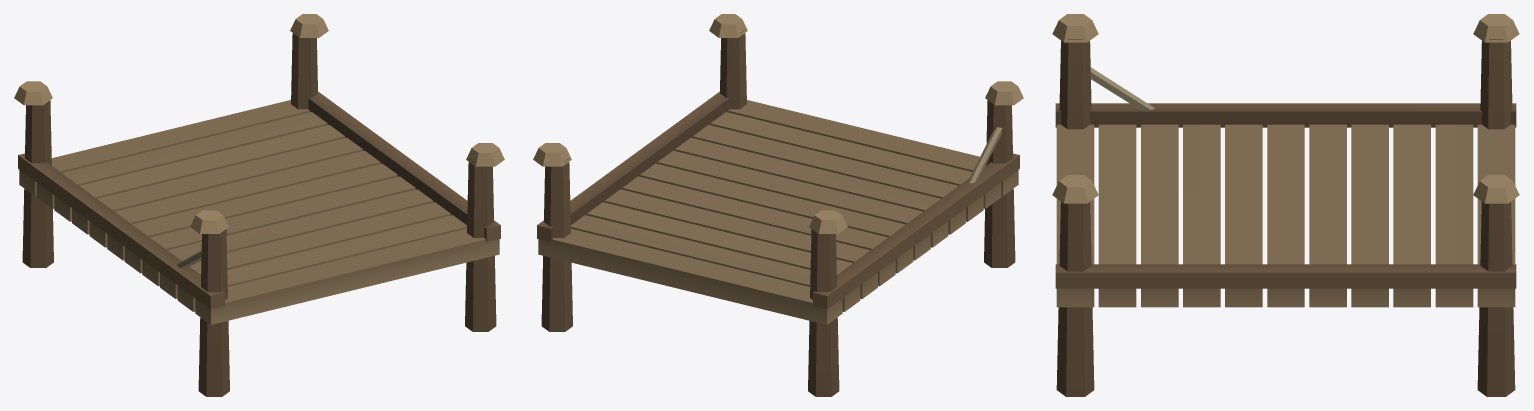
Rendered from landing_pier.glb.
The picture shows the model from 3 angles, left to right: view 1: azimuth 30°, elevation 25°; view 2: azimuth 150°, elevation 25°; view 3: azimuth 270°, elevation 25°; orthographic projection. The views are drawn at different scales.
Visible parts, largest first — view 1: landing_pier; view 2: landing_pier; view 3: landing_pier.
Part boxes in pixels (x1,y1,x2,y2): landing_pier: [14, 14, 504, 396]; landing_pier: [533, 14, 1023, 396]; landing_pier: [1052, 14, 1519, 396].
Size of the model in its own units: 1.9 by 1.06 by 2.11.
